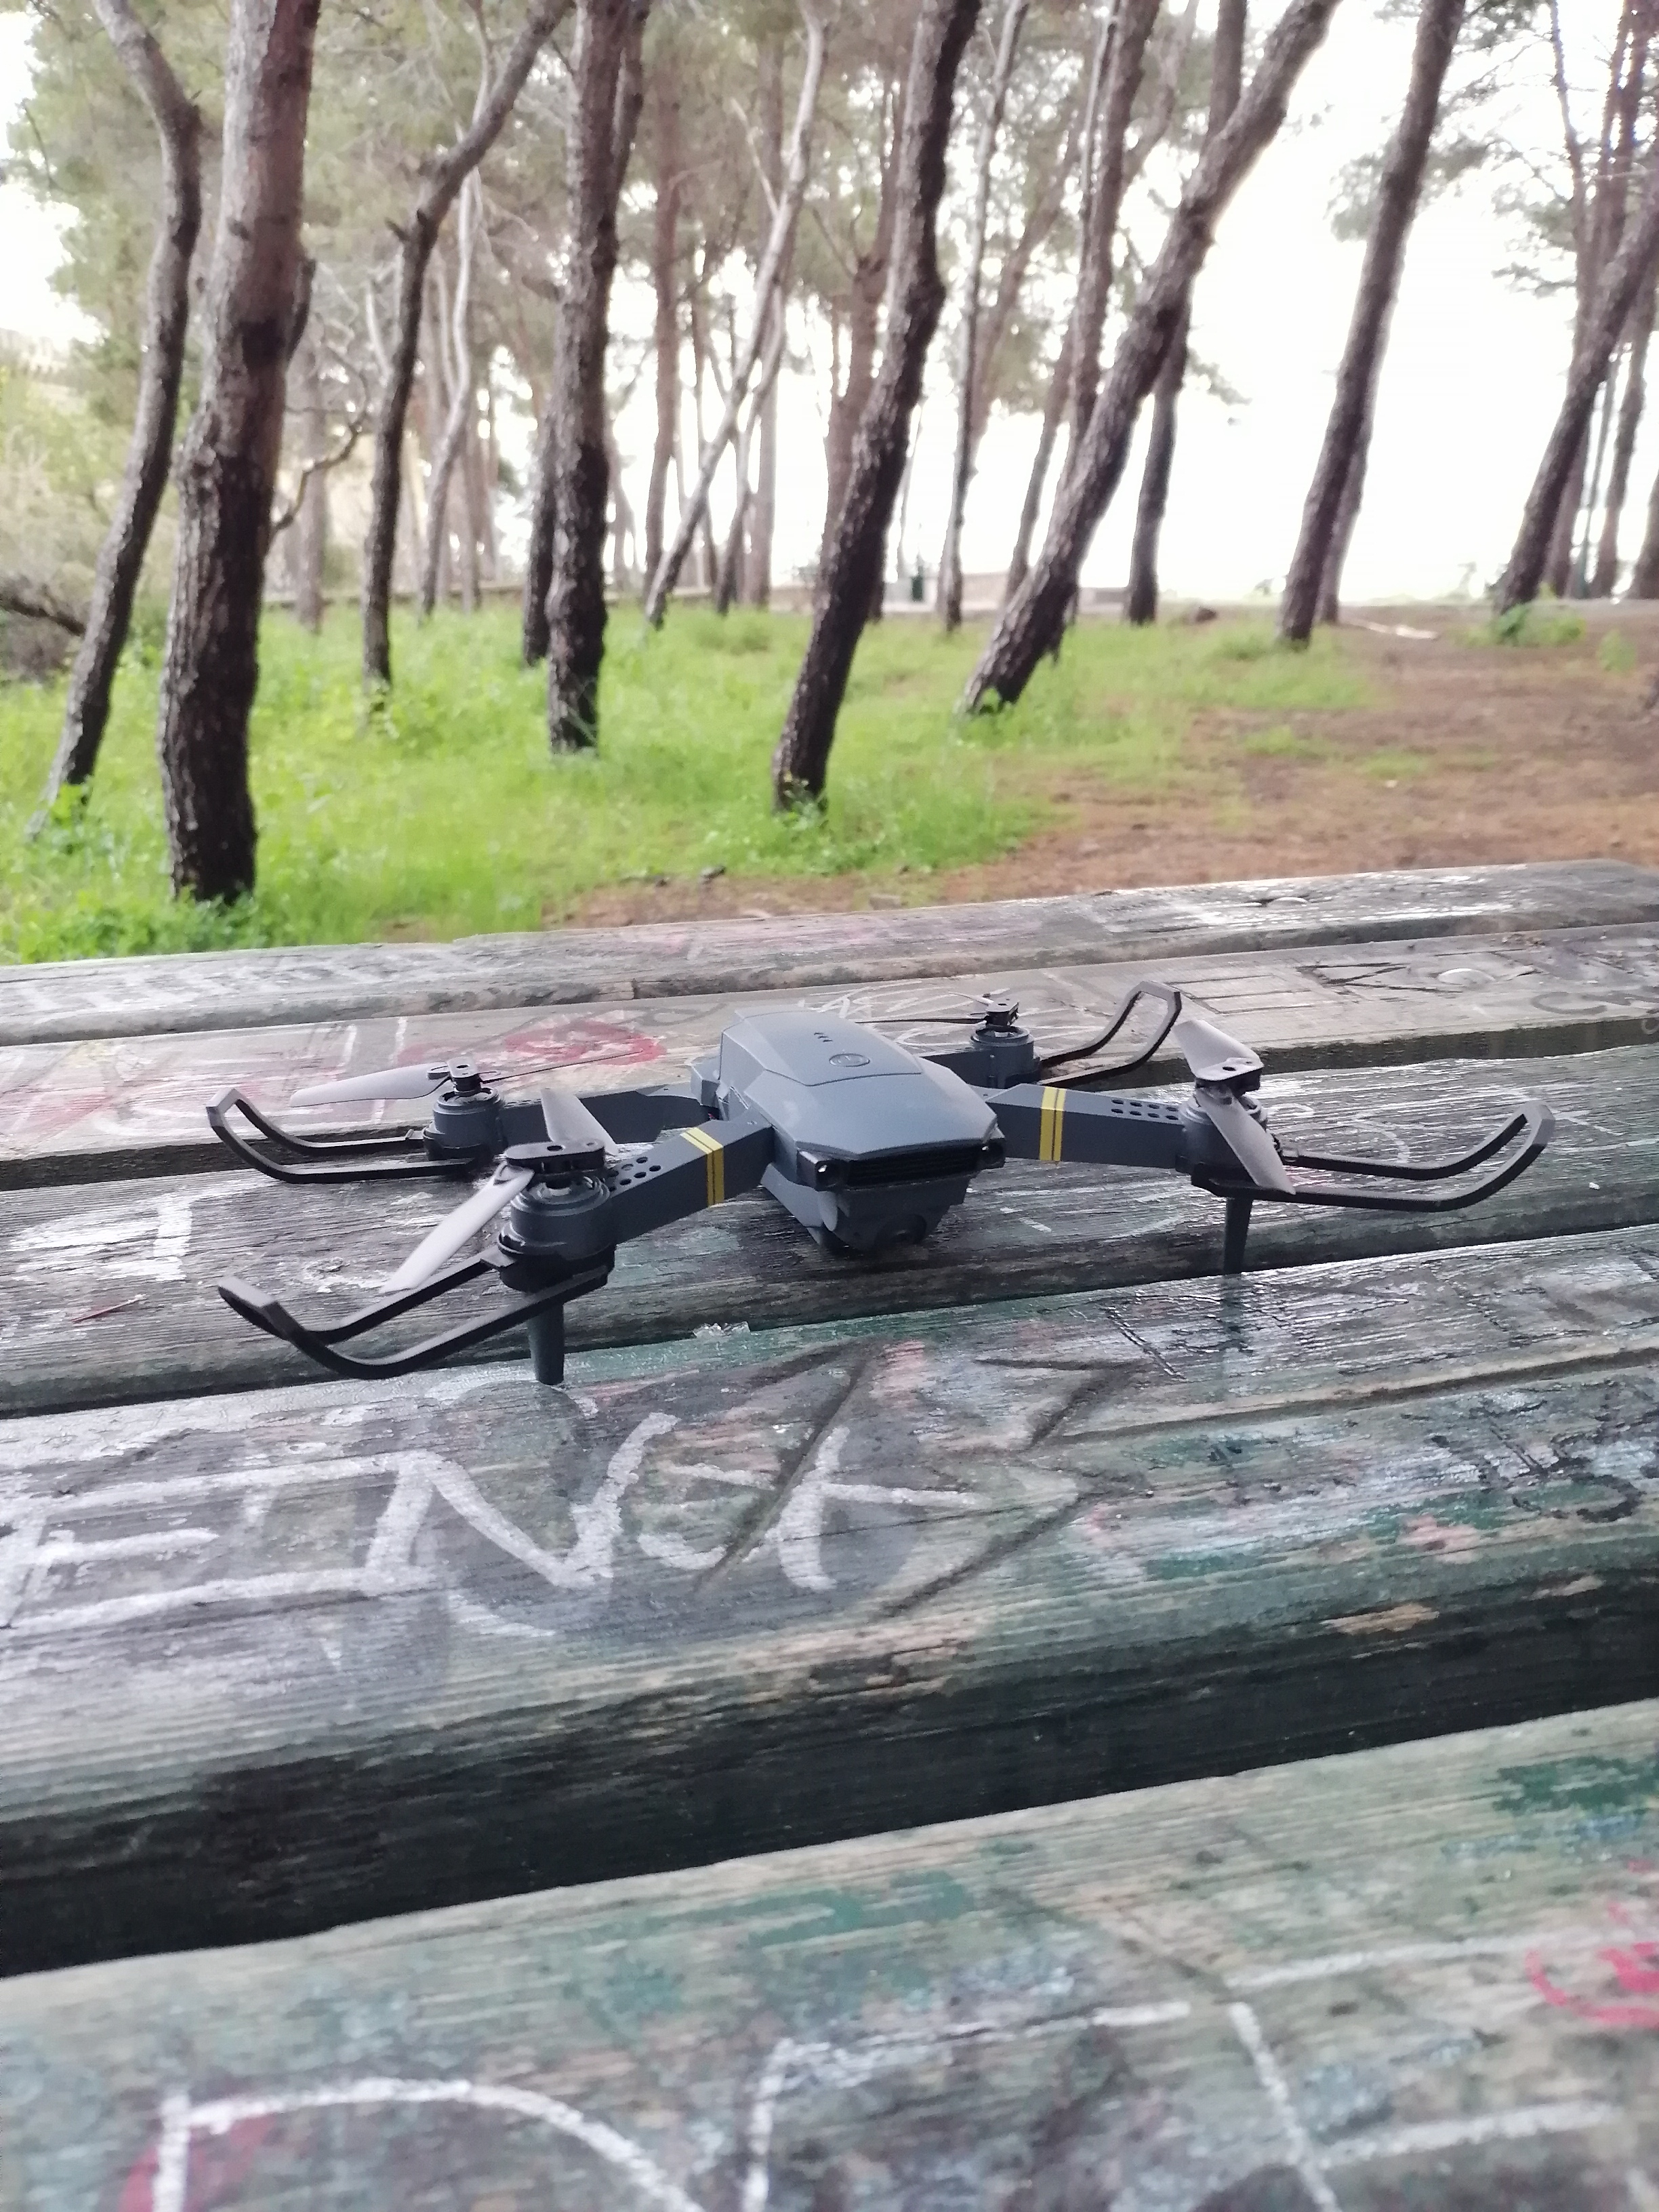drone: (183, 1045, 1596, 1404)
